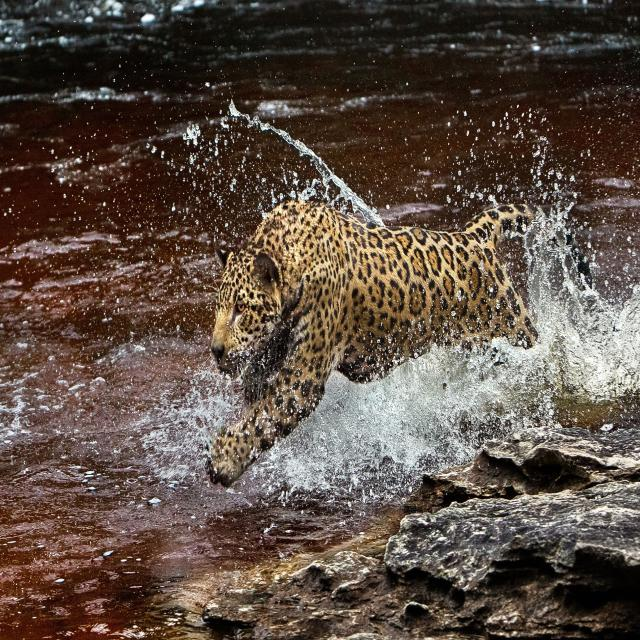Jaguar: (207, 190, 541, 433)
